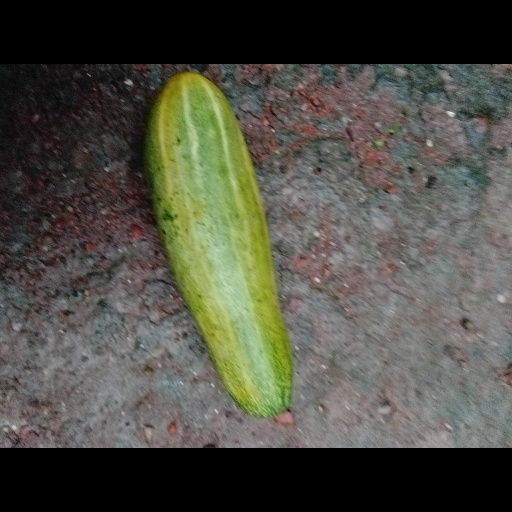concombre: (140, 70, 293, 420)
